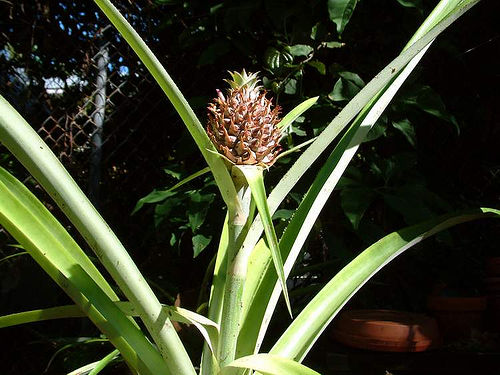pineapple: (202, 68, 283, 169)
